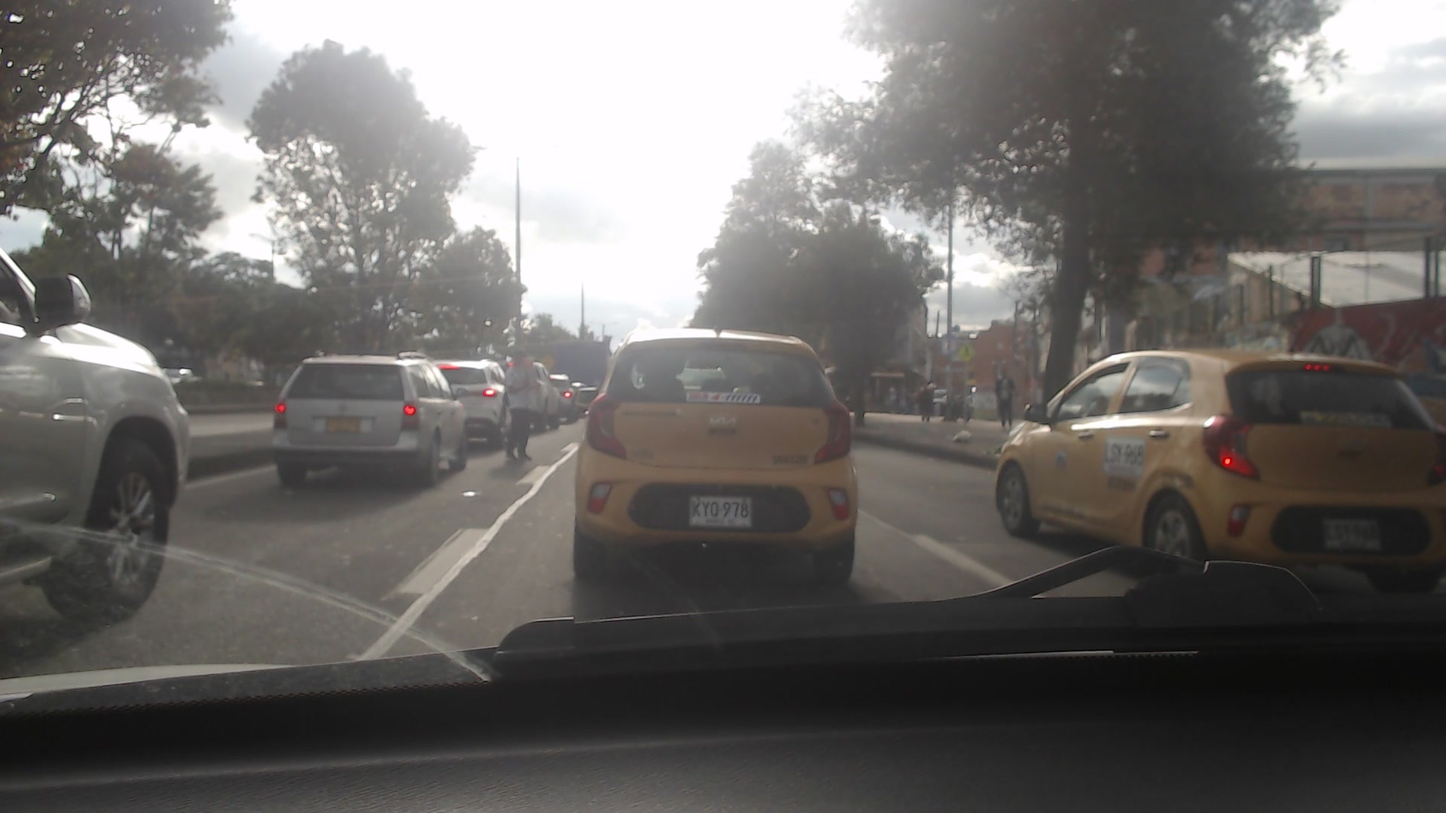car: (992, 347, 1445, 600), (577, 324, 857, 584), (263, 353, 464, 472), (428, 356, 508, 447)
person: (498, 344, 541, 458), (988, 359, 1014, 426)
